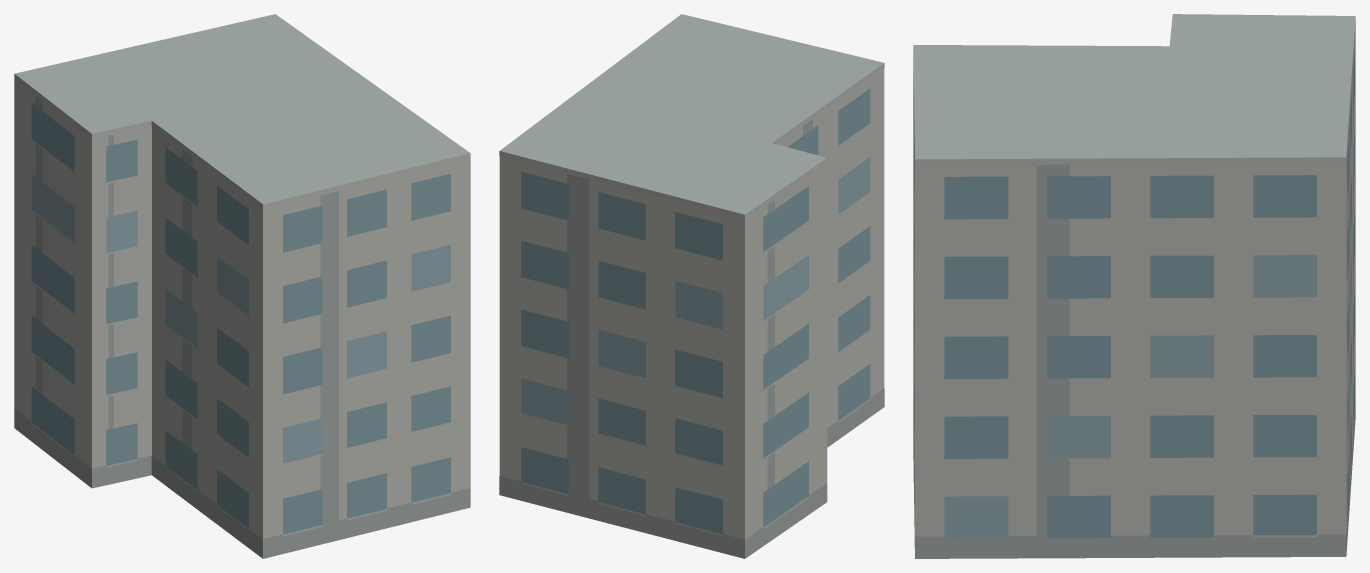
Rendered from survey-upis-32825725.glb.
3 views of the same model, side by side, from view 1: azimuth 30°, elevation 25°; view 2: azimuth 150°, elevation 25°; view 3: azimuth 270°, elevation 25° (orthographic). The views are drawn at different scales.
Parts seen in each view (by area): view 1: survey-upis-32825725.tmp; view 2: survey-upis-32825725.tmp; view 3: survey-upis-32825725.tmp.
Boxes of the visible parts, bbox=[...] form: survey-upis-32825725.tmp: bbox=[14, 14, 470, 558]; survey-upis-32825725.tmp: bbox=[499, 14, 884, 558]; survey-upis-32825725.tmp: bbox=[913, 14, 1355, 558].
Bounding box in the file's own units: 12.49 × 16 × 16.06.
